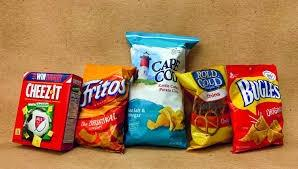snack: (126, 31, 201, 149), (76, 62, 137, 156), (225, 63, 284, 154)
